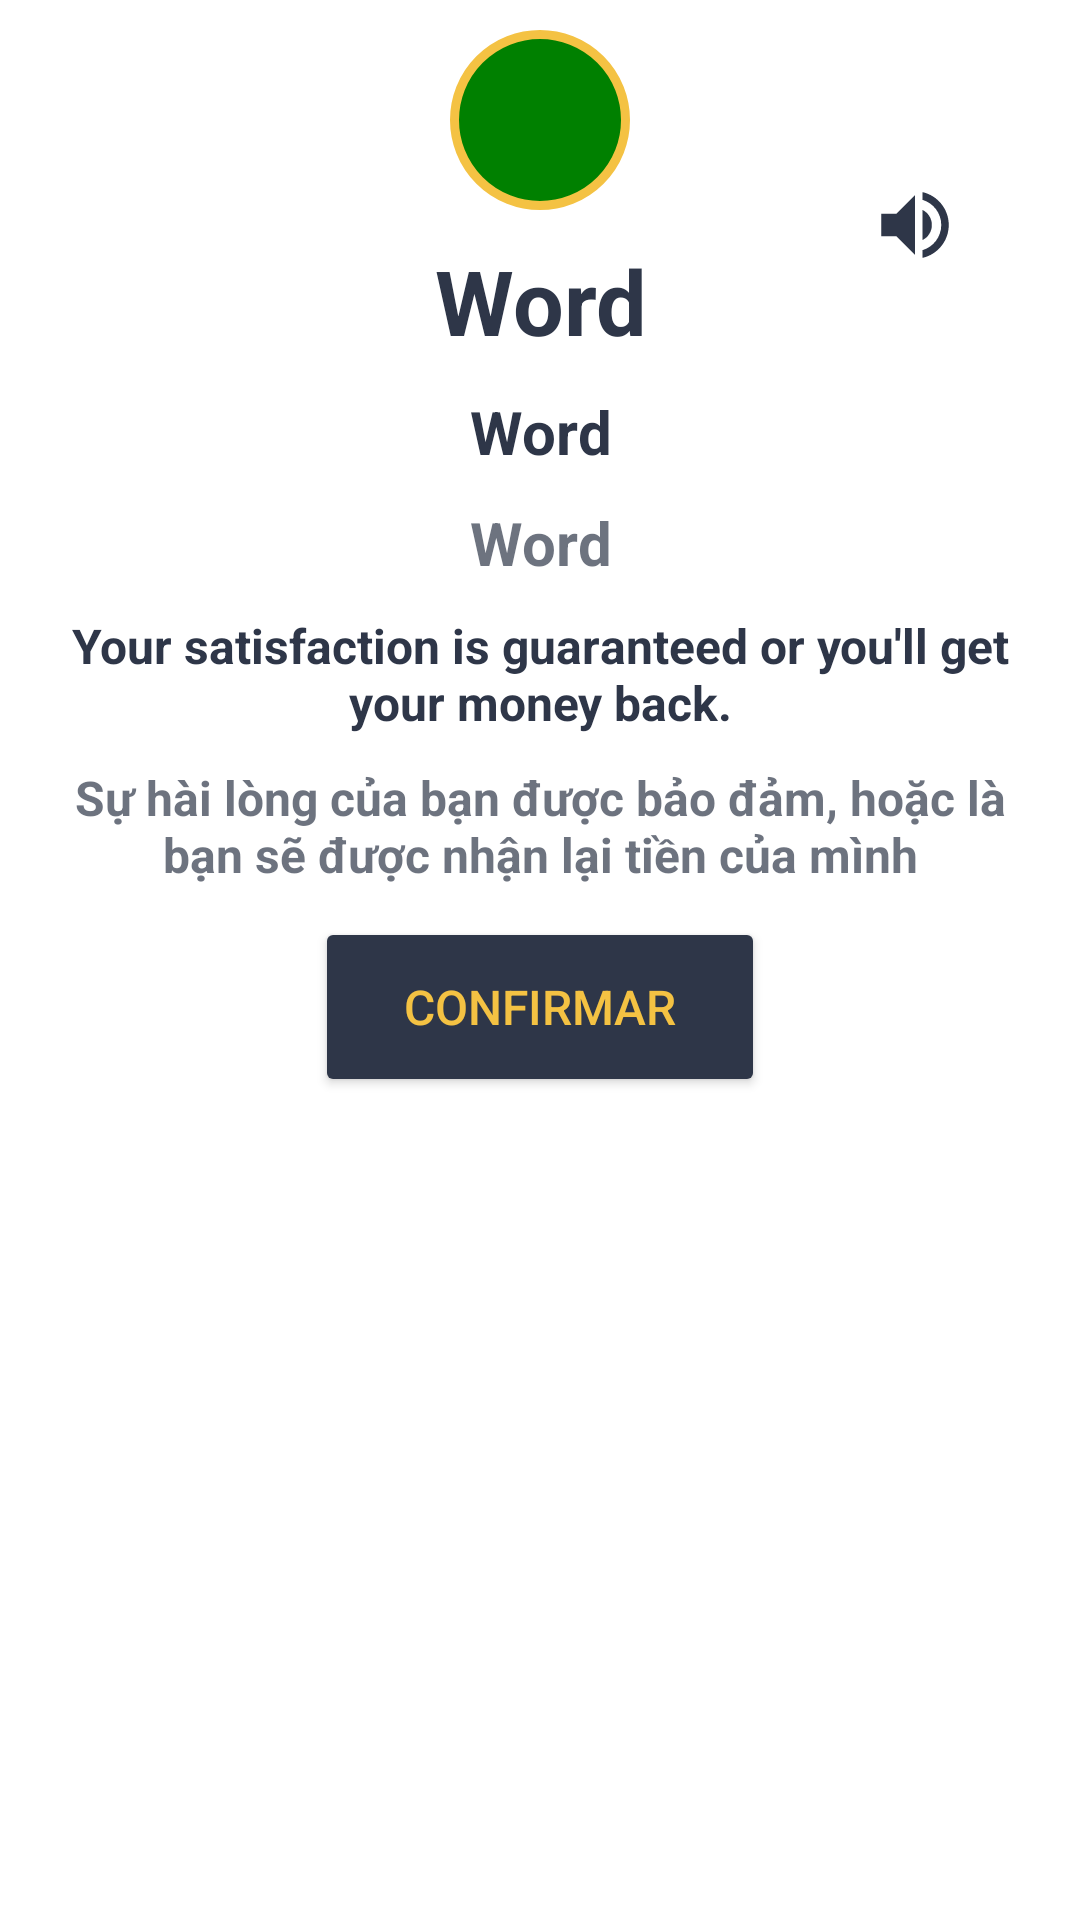

Named icons in this screenshot (1080×1920) and their bounding boxes, bbox=[x1, y1, x2, y2]:
volume dialog: bbox=[881, 192, 949, 258]
